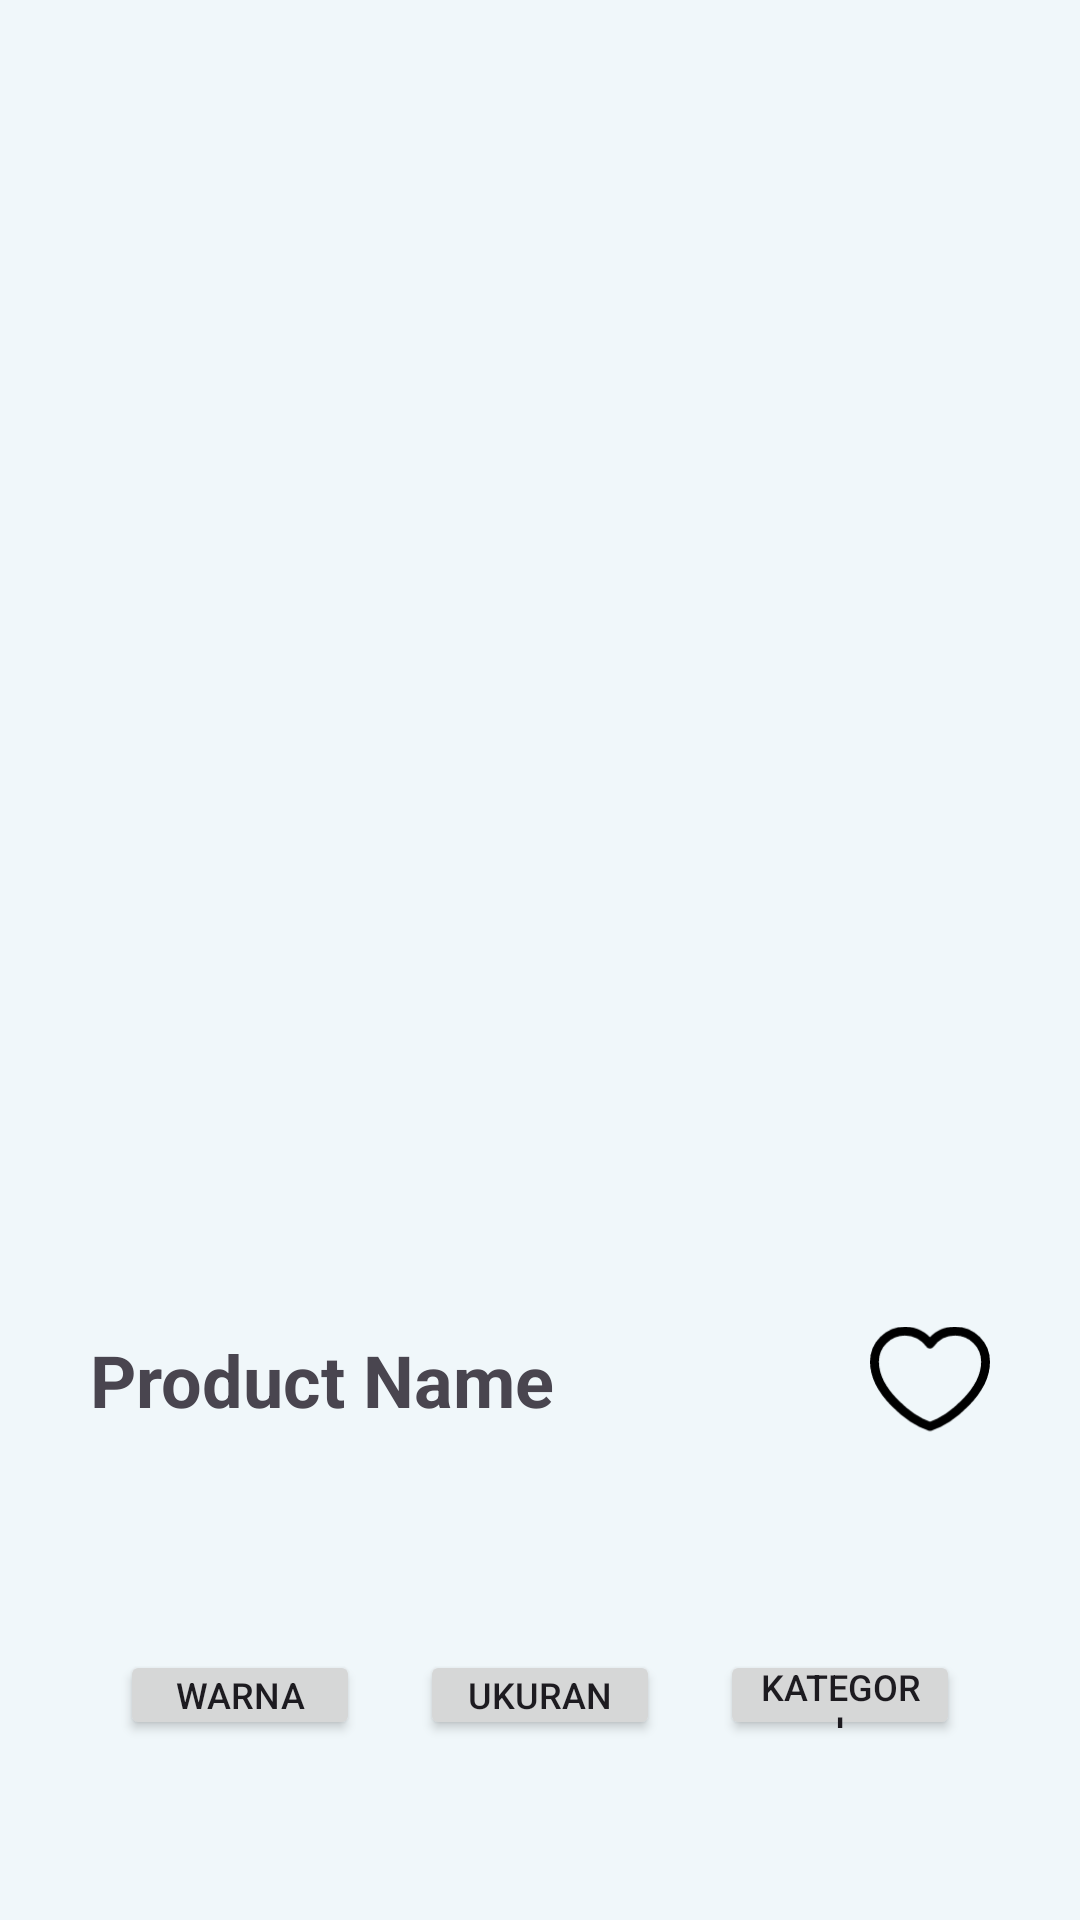

Icons on this 1080*1920 Android screen, each with the point to tap as (x=x, y=y):
favorite: (x=930, y=1379)
